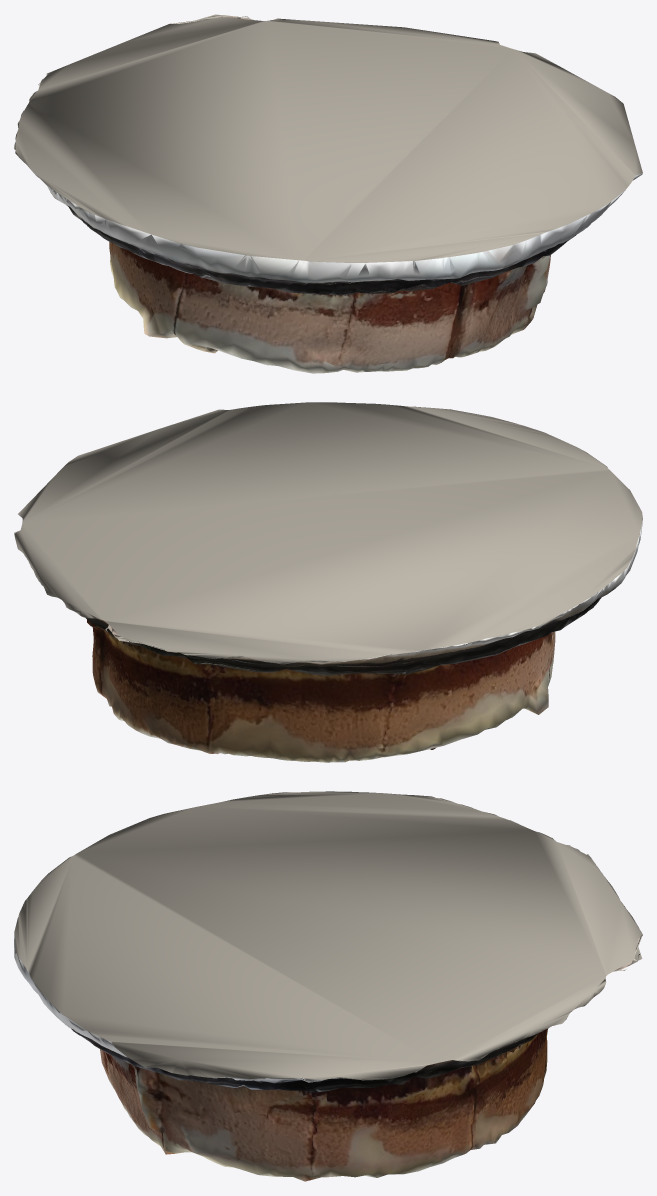
Rendered from cake_8036.obj.
3 renders of one model, top to bottom at view 1: azimuth 30°, elevation 25°; view 2: azimuth 150°, elevation 25°; view 3: azimuth 270°, elevation 25°, orthographic. The views are drawn at different scales.
Size of the model in its own units: 0.1761 by 0.0566 by 0.1767.
1 material, 1 textured.
